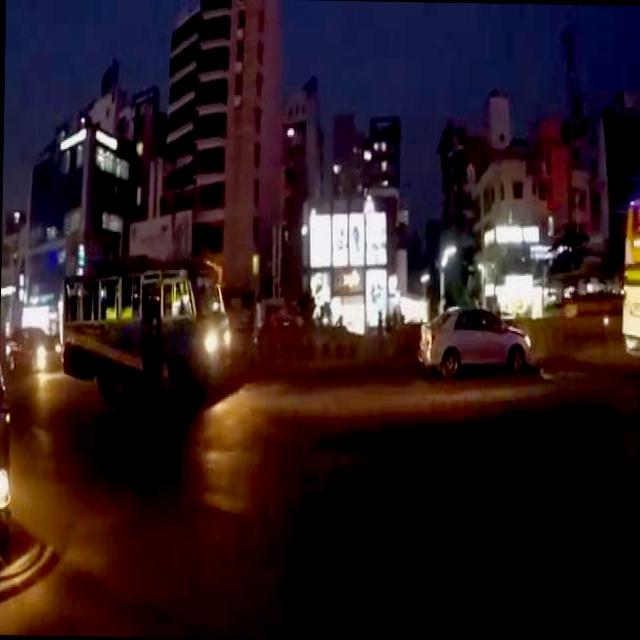bus: (63, 254, 236, 392), (620, 197, 640, 355)
car: (419, 300, 533, 372), (6, 322, 64, 367)
